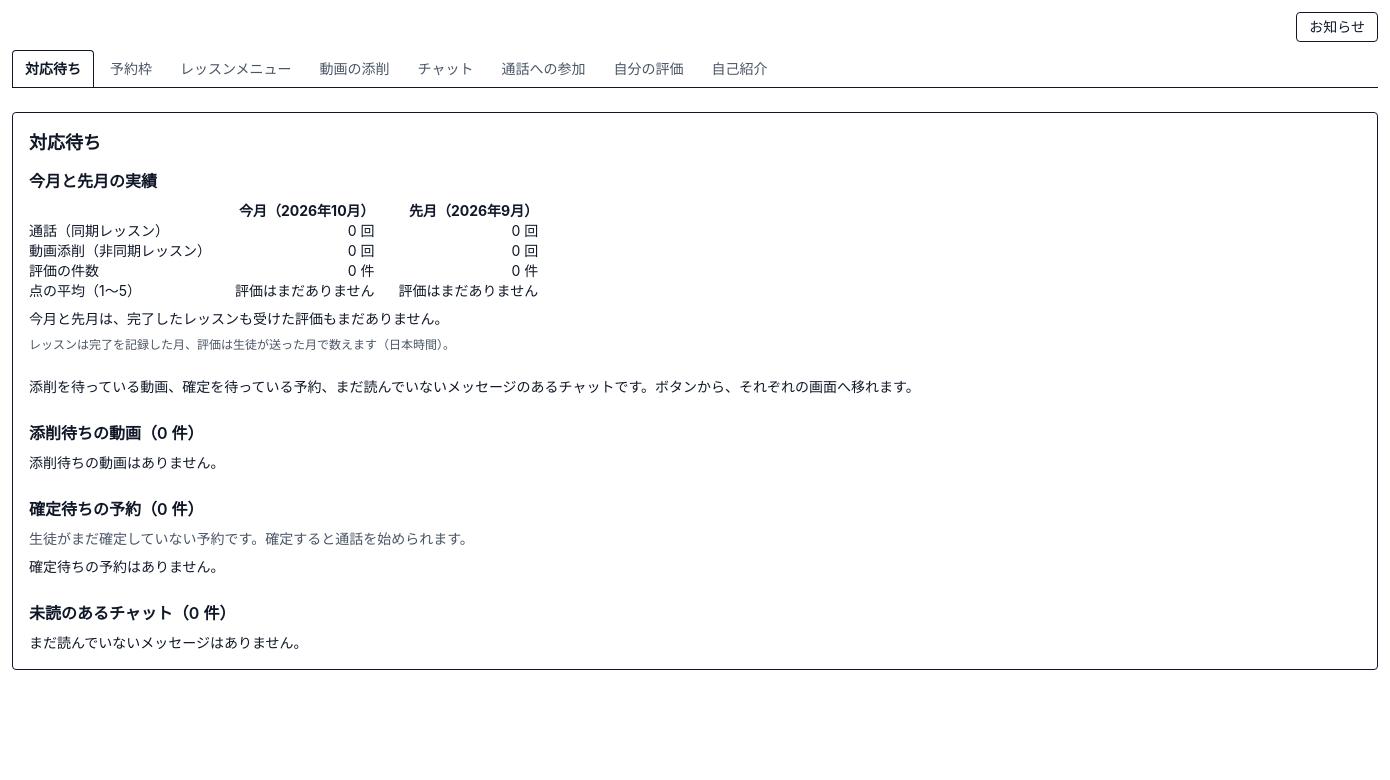
Test: コーチの画面の「通話への参加」 › 通話への参加のタブで、予約の行にメニューが出る
Click the tab "通話への参加" at (544, 68), box 490,50 -> 598,87
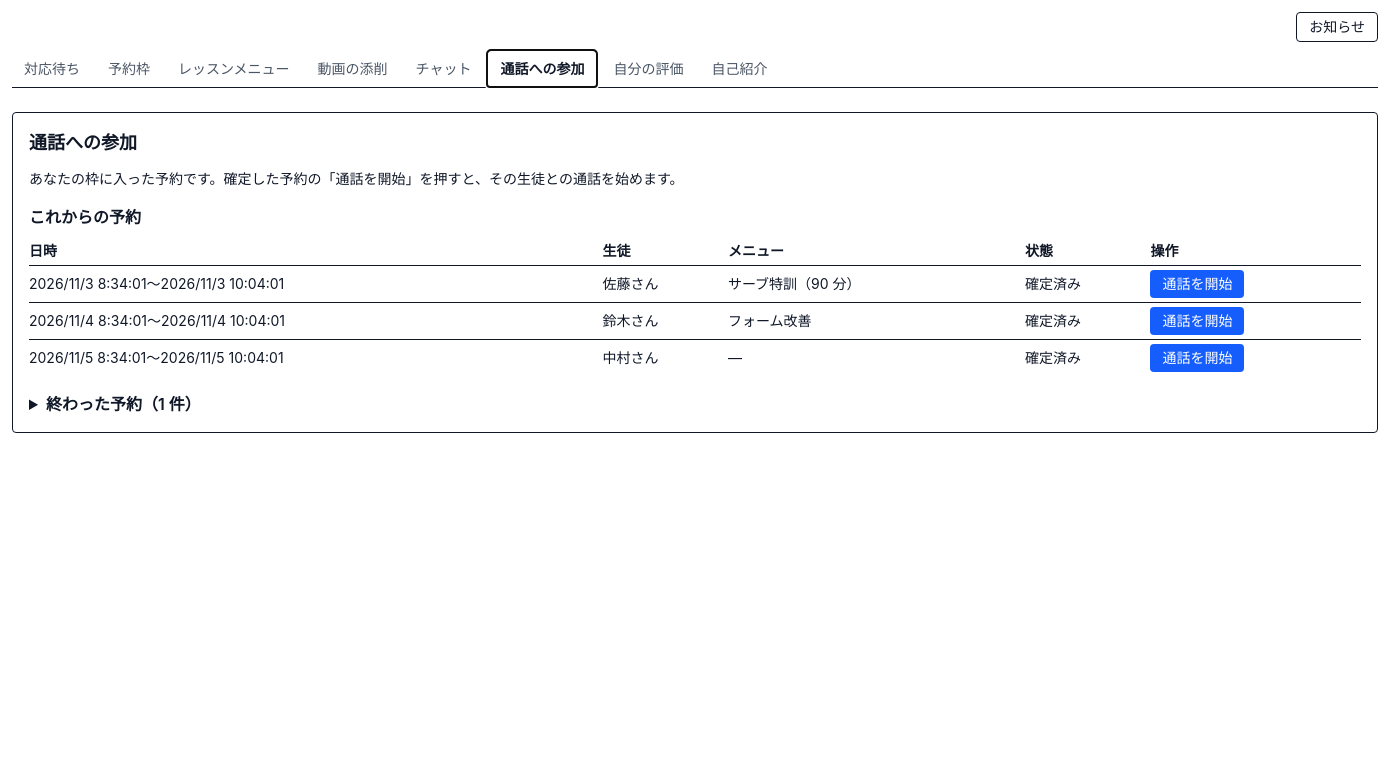
Now the cell "サーブ特訓（90 分）" is shown, box 728,266 -> 1025,302
Now the cell "—" is shown, box 728,340 -> 1025,376
